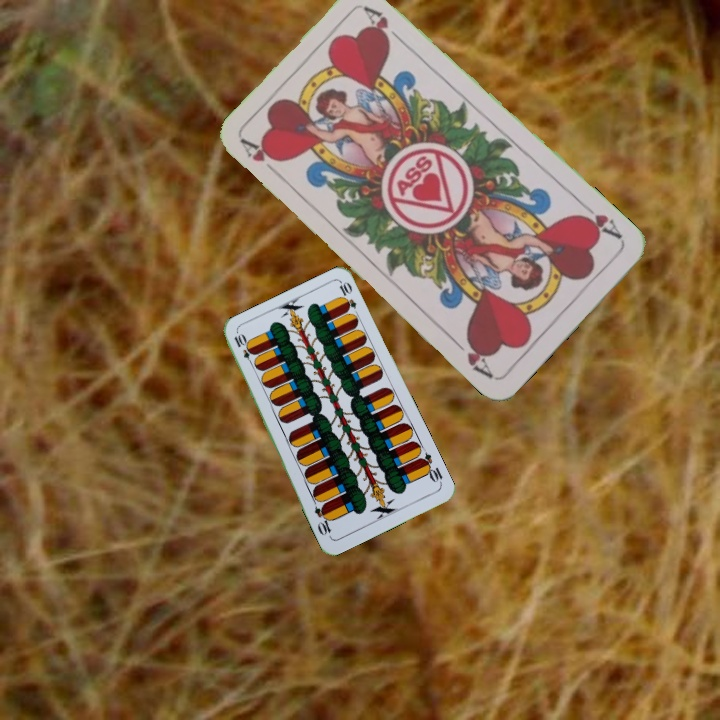E10: (415, 449, 445, 487), (230, 330, 257, 369)
HA: (238, 135, 286, 181), (574, 199, 625, 242)
